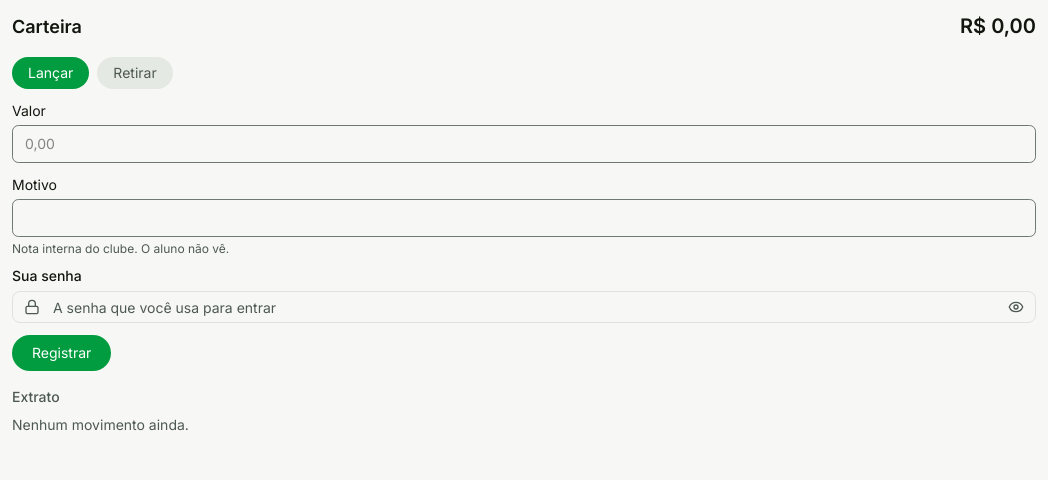
CarteiraDoAluno › AC-004: saldo insuficiente aponta para o VALOR, não para a senha
The image size is (1048, 480).
Expected: the text "R$ 0,00" is shown, [960, 12, 1036, 40]
Click the button "Retirar": point(135, 73) [97, 57, 173, 89]
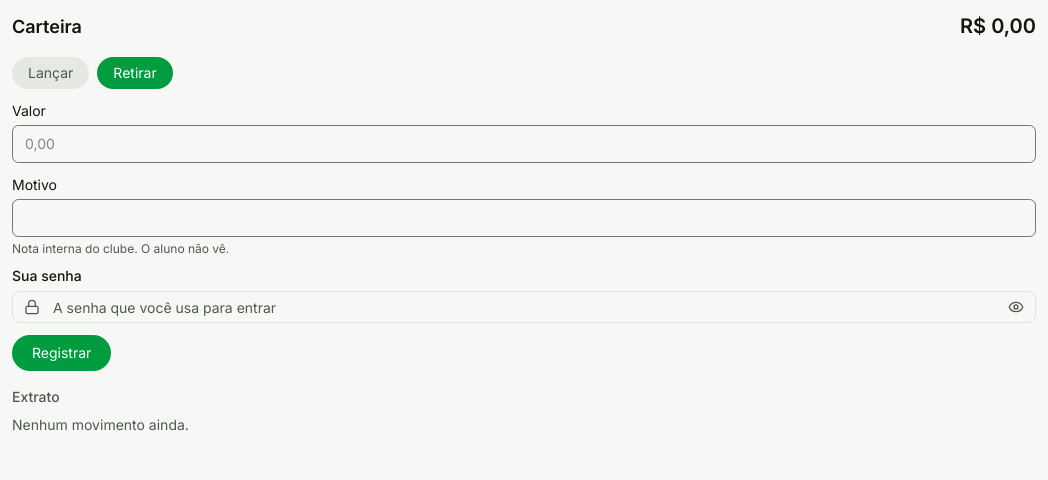
In the field labelled "Valor": point(524, 144) [12, 125, 1036, 163], type "999"
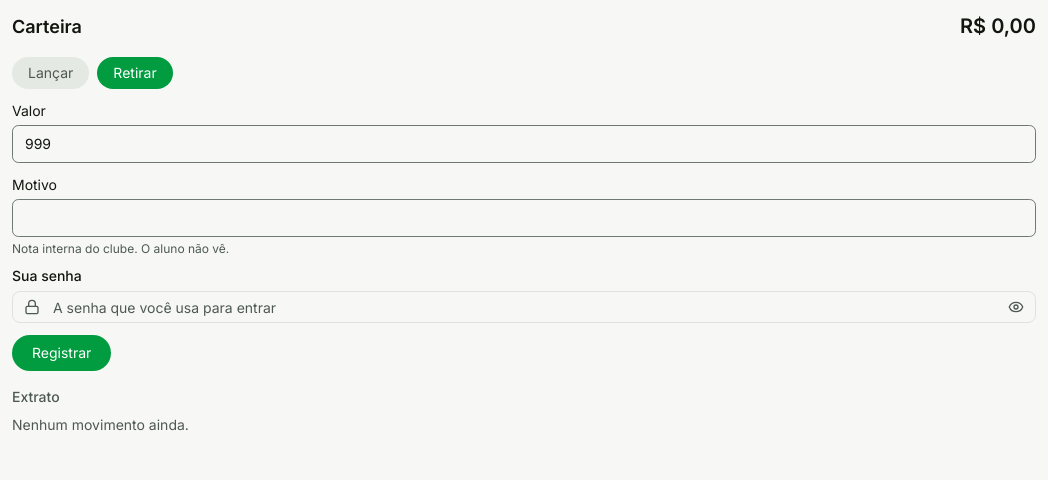
In the field labelled "Motivo": point(524, 218) [12, 199, 1036, 237], type "retirada grande"
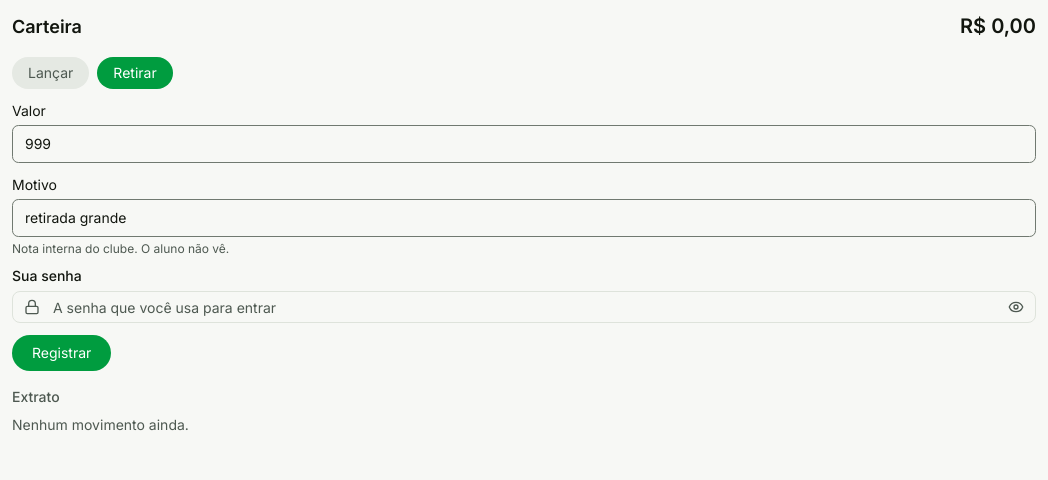
In the password field labelled "Sua senha": point(524, 307) [12, 291, 1036, 323], type "minha-senha"
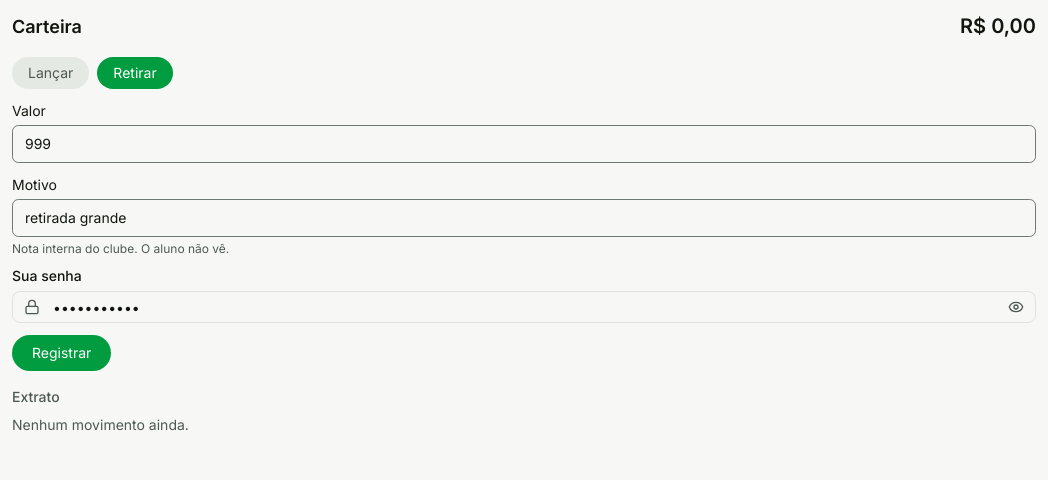
Click the button "Registrar": point(62, 353) [12, 335, 111, 371]
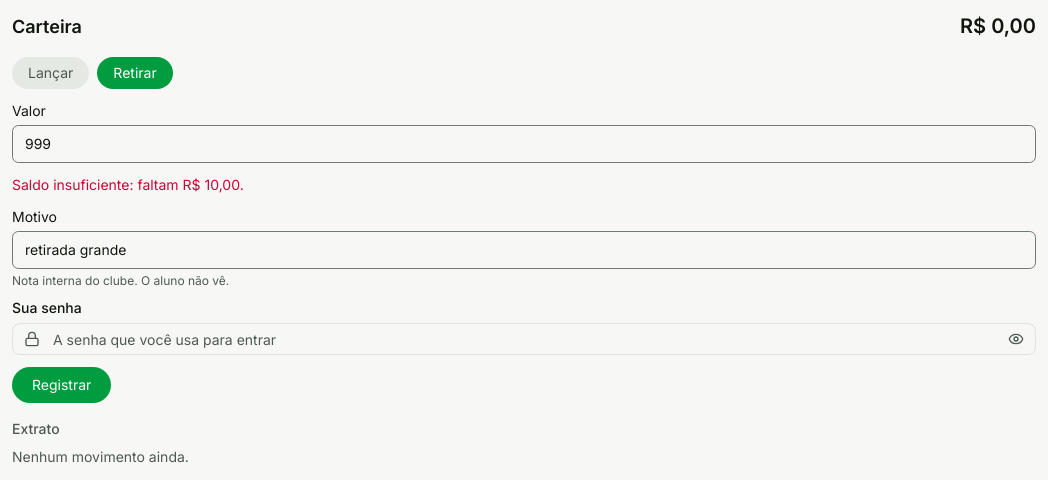
Now the message shows "Saldo insuficiente", box [12, 176, 244, 193]
